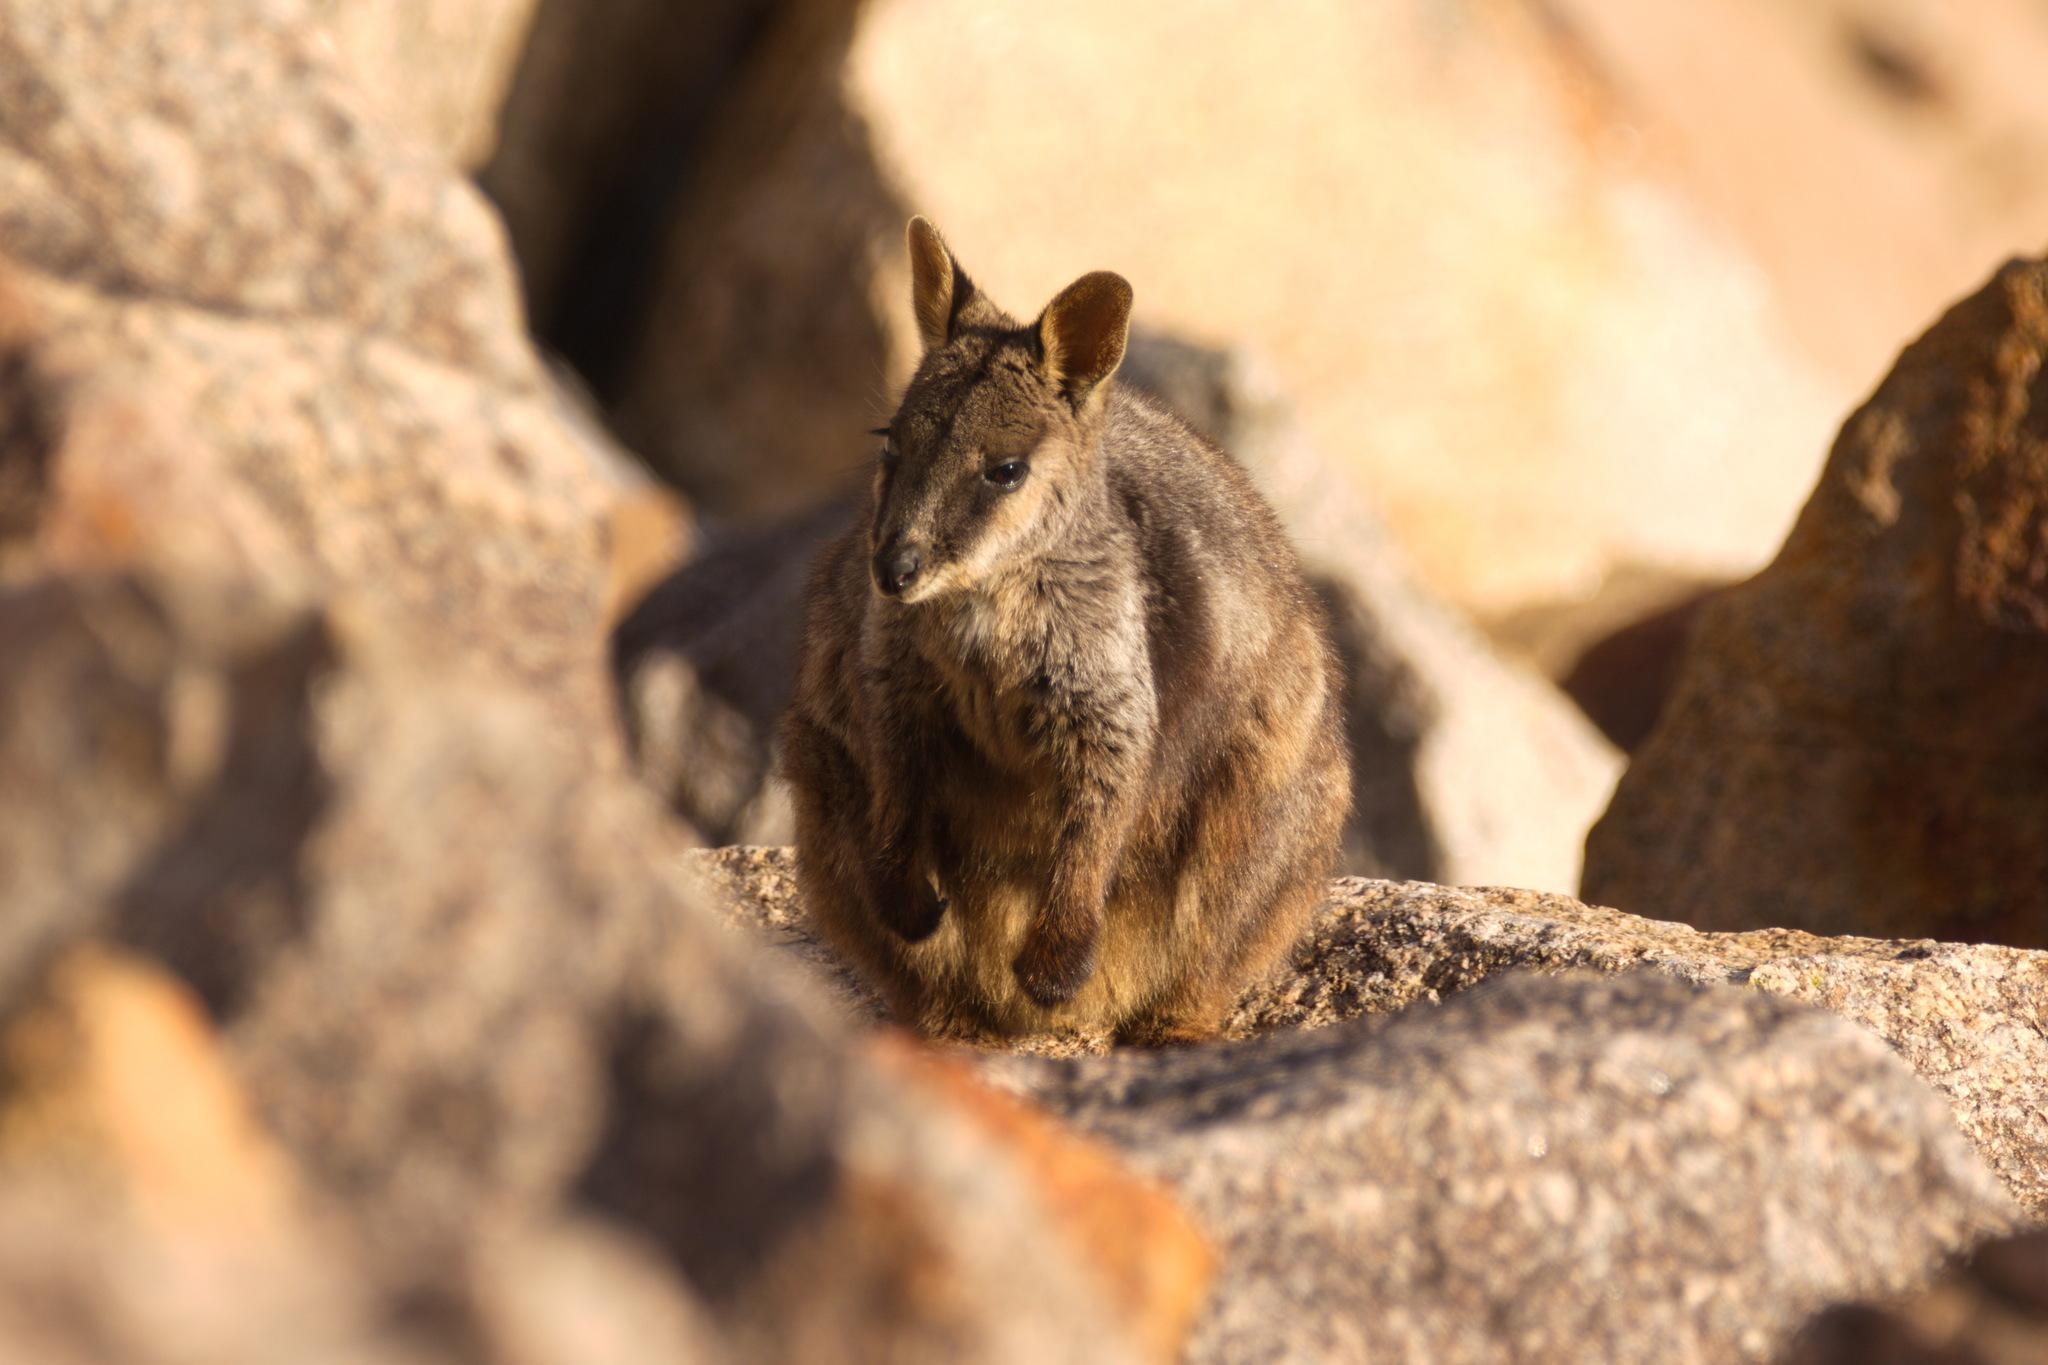Brush-tailed rock-wallaby: (783, 216, 1340, 1056)
